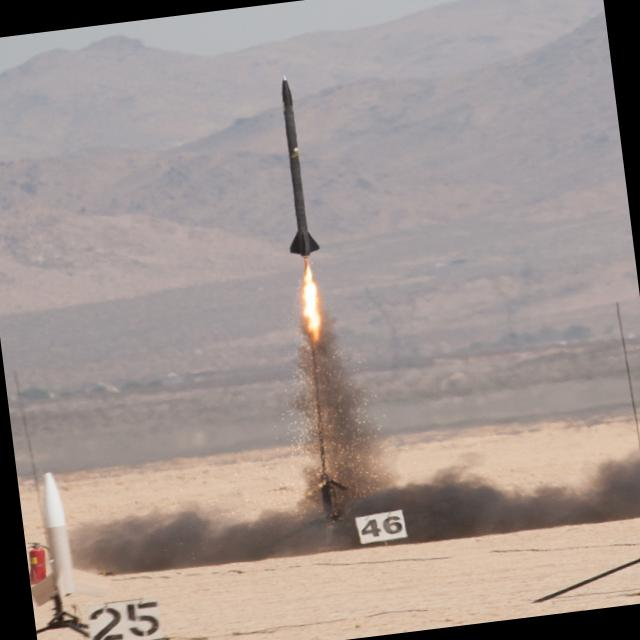rocket: (258, 59, 343, 384)
